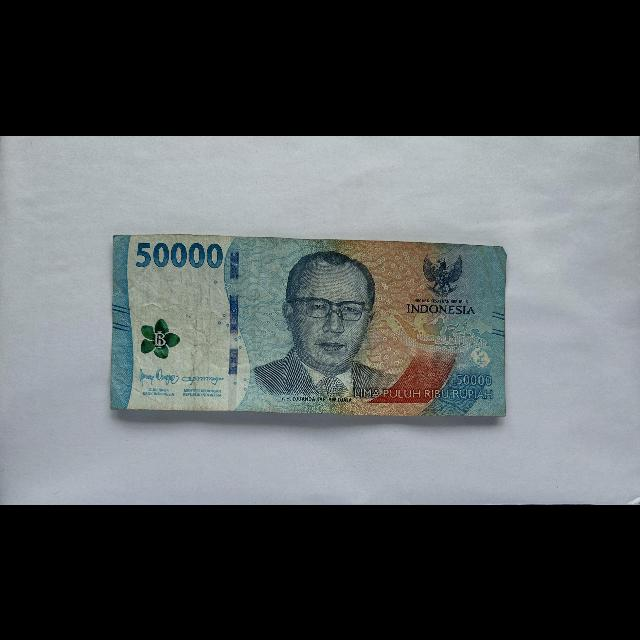Asli-50k: (109, 232, 508, 418)
Tinta-Asli-50k: (141, 316, 182, 359)
